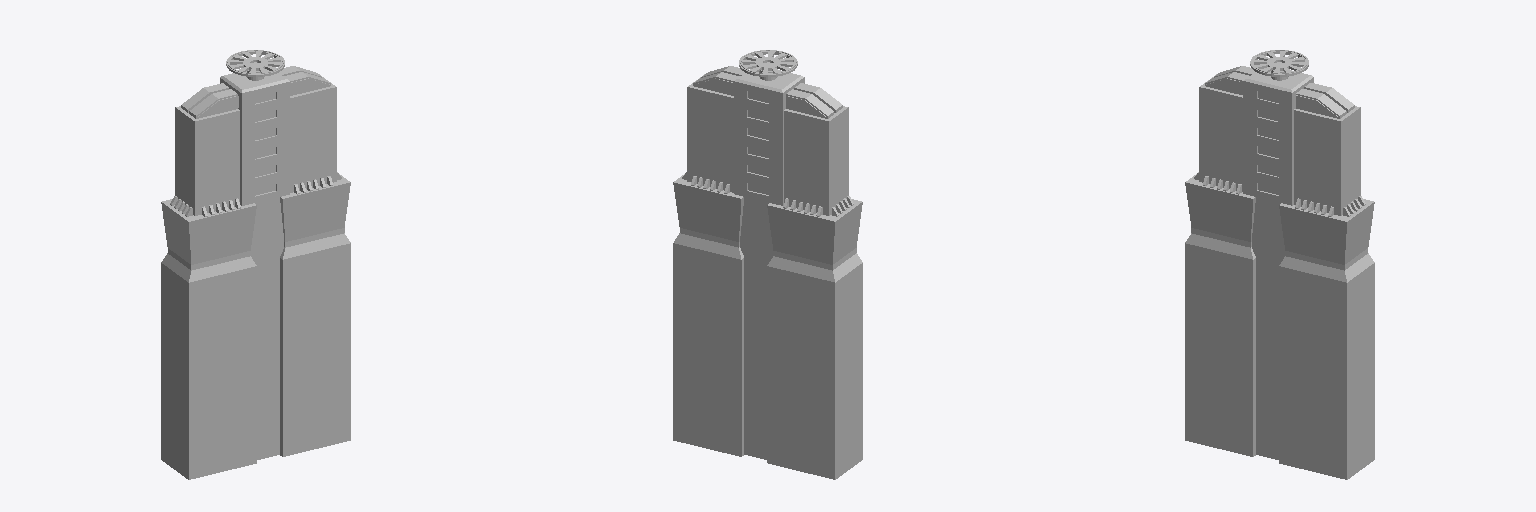
3 renders of one model, left to right at view 1: azimuth 30°, elevation 25°; view 2: azimuth 150°, elevation 25°; view 3: azimuth 330°, elevation 25°, orthographic.
Parts seen in each view (by area): view 1: 对称; view 2: 对称; view 3: 对称.
Boxes of the visible parts, <box> form: 对称: <box>161,50,350,479</box>; 对称: <box>673,50,862,479</box>; 对称: <box>1185,50,1374,479</box>.
Size of the model in its own units: 5.08 by 11.62 by 1.61.